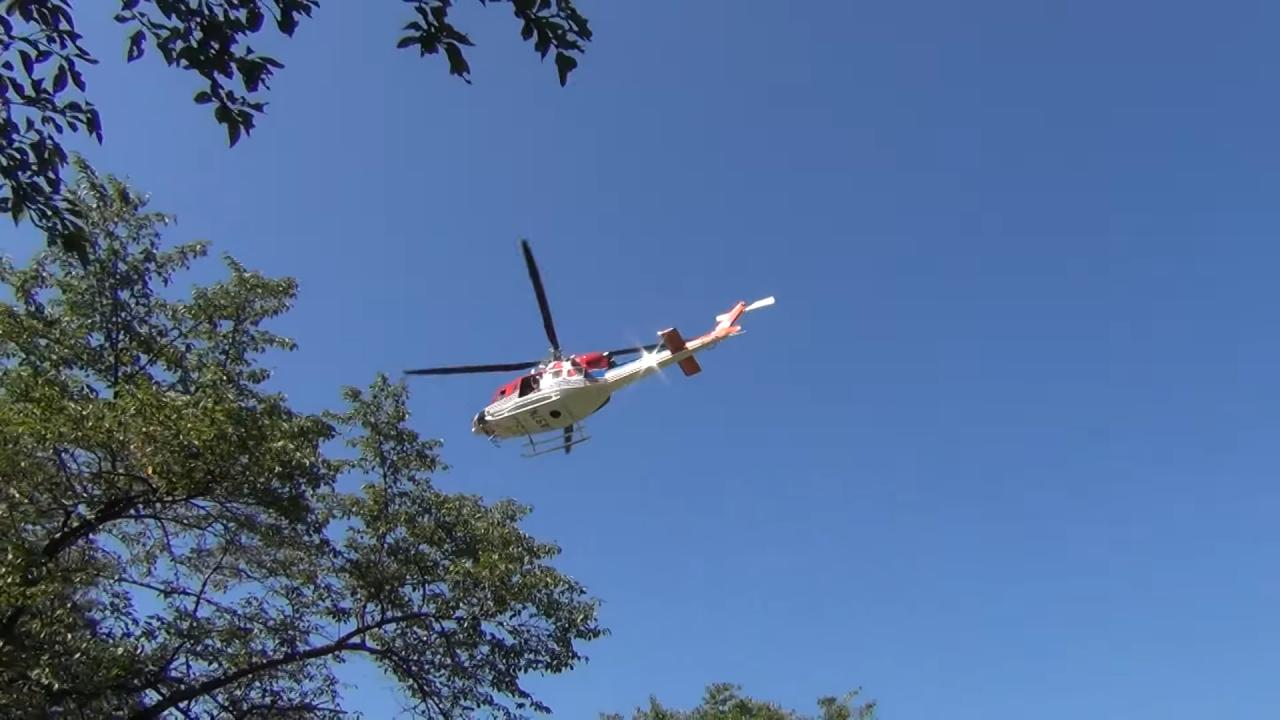Helicopter: (372, 219, 832, 488)
